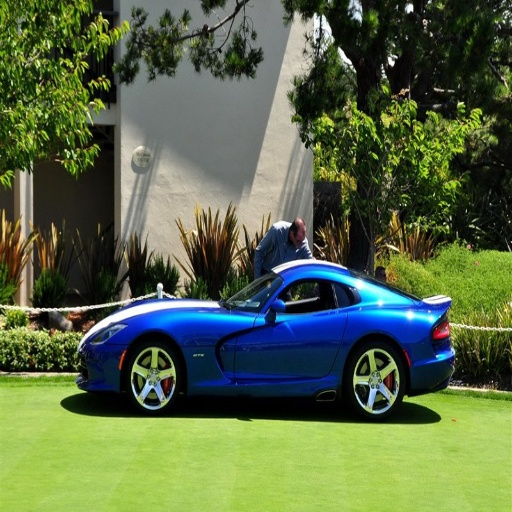back_left_door: (306, 268, 351, 378)
